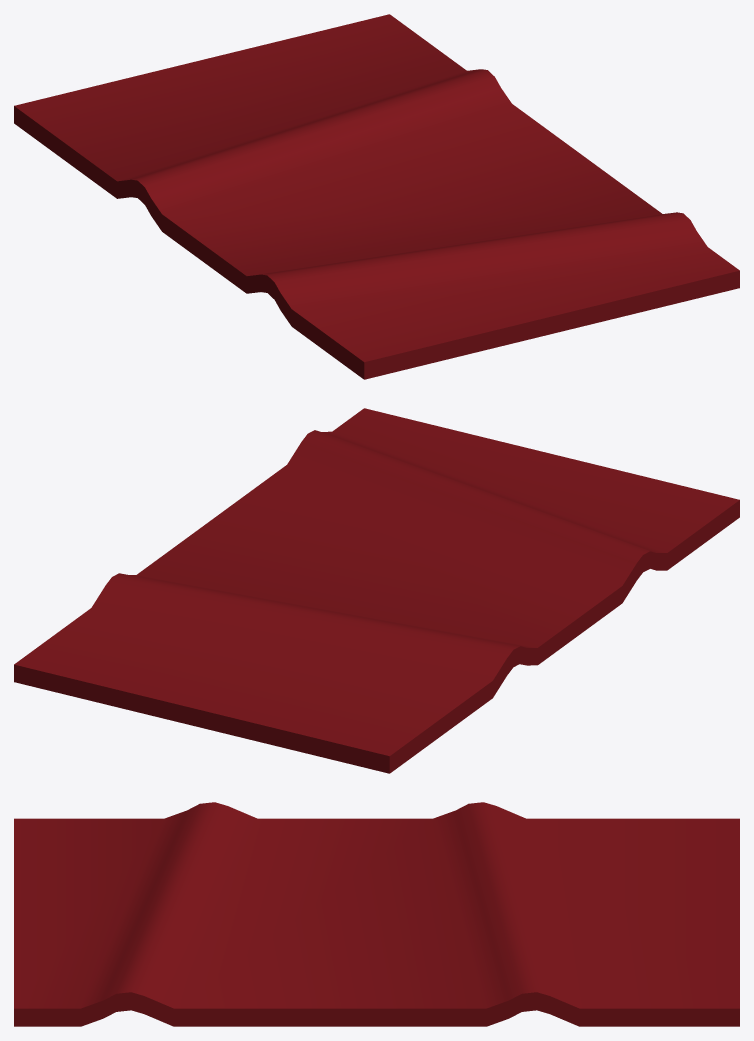
The model's file is carpet.glb.
3 renders of one model, top to bottom at view 1: azimuth 30°, elevation 25°; view 2: azimuth 150°, elevation 25°; view 3: azimuth 270°, elevation 25°, orthographic. The views are drawn at different scales.
Parts seen in each view (by area): view 1: Decoration_Carpet; view 2: Decoration_Carpet; view 3: Decoration_Carpet.
Part boxes in pixels (bbox=[...]): Decoration_Carpet: bbox=[14, 14, 739, 379]; Decoration_Carpet: bbox=[14, 408, 739, 773]; Decoration_Carpet: bbox=[14, 802, 739, 1026].
Bounding box in the file's own units: 2.48 × 0.2105 × 4.
